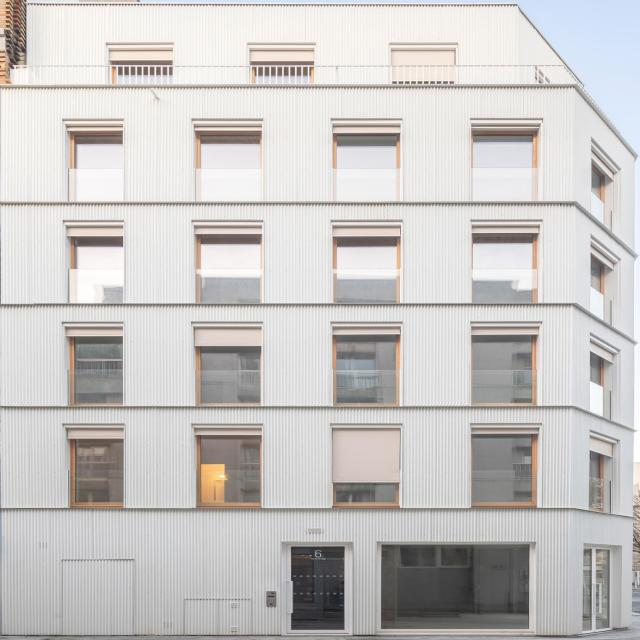door: (282, 543, 352, 635), (583, 550, 613, 633)
railing: (14, 68, 575, 84)
window: (377, 544, 534, 632), (336, 431, 402, 504), (475, 428, 534, 506), (197, 133, 260, 202), (199, 429, 258, 502), (198, 237, 261, 305), (196, 336, 259, 404), (474, 236, 536, 305), (472, 335, 534, 404), (67, 430, 124, 505), (473, 133, 535, 201), (334, 135, 397, 200), (333, 338, 396, 403), (65, 135, 123, 205), (66, 238, 124, 308), (64, 337, 122, 407), (335, 239, 398, 303), (586, 253, 612, 319), (591, 352, 610, 417), (592, 453, 608, 511), (589, 162, 604, 221)
